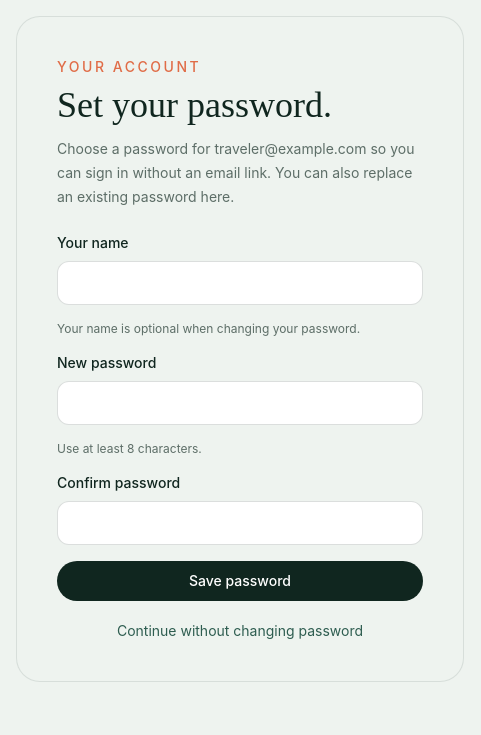
Test: rejects mismatched confirmation without updating the account
Type "Alex" into the field labelled "Your name".
click(240, 283); type("Alex")  # box [57, 261, 423, 305]
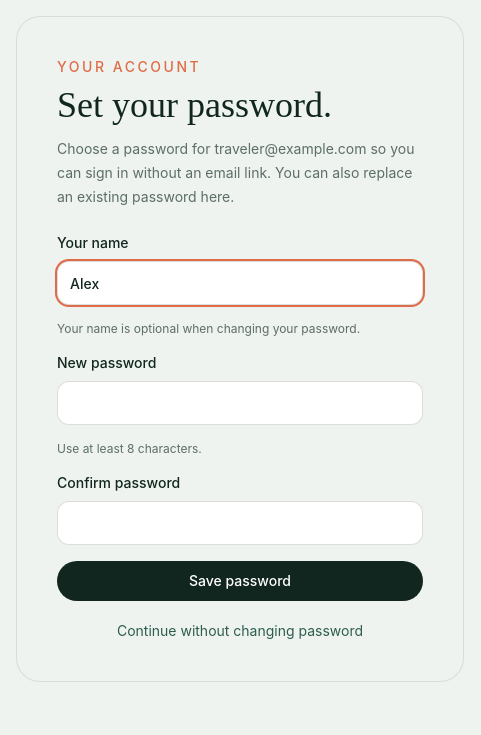
Type "password123" into the password field labelled "New password".
click(240, 403); type("password123")  # box [57, 381, 423, 425]
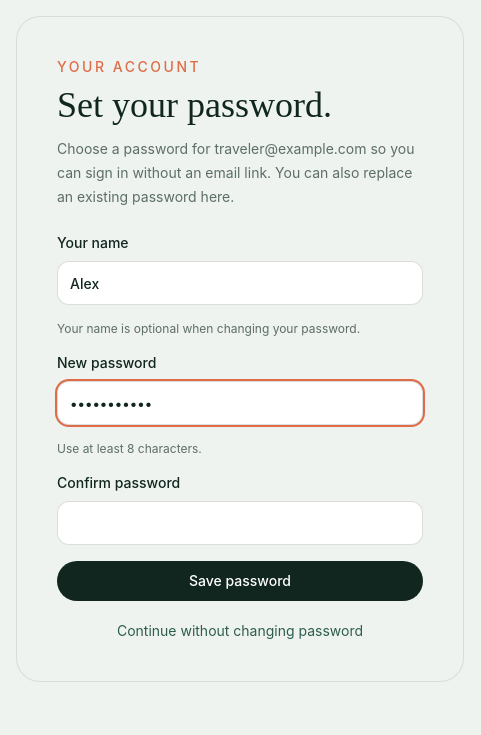
Type "different123" into the password field labelled "Confirm password".
click(240, 523); type("different123")  # box [57, 501, 423, 545]
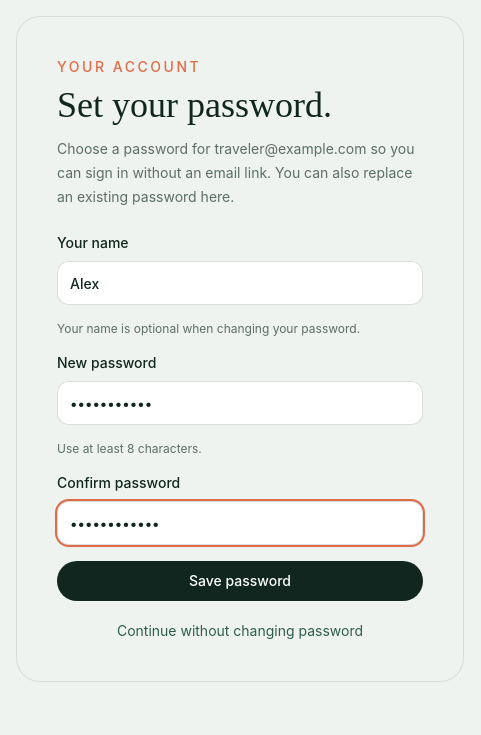
Click the button "Save password".
click(240, 581)  # box [57, 561, 423, 601]
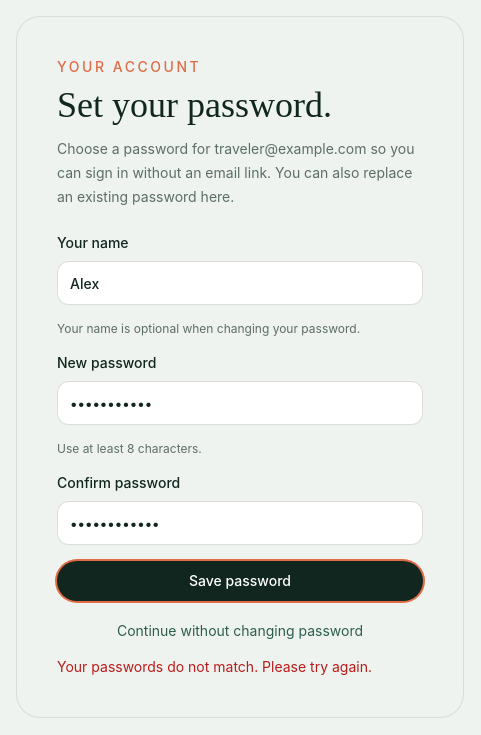
expect the message shows "do not match": met, box [57, 658, 372, 675]
